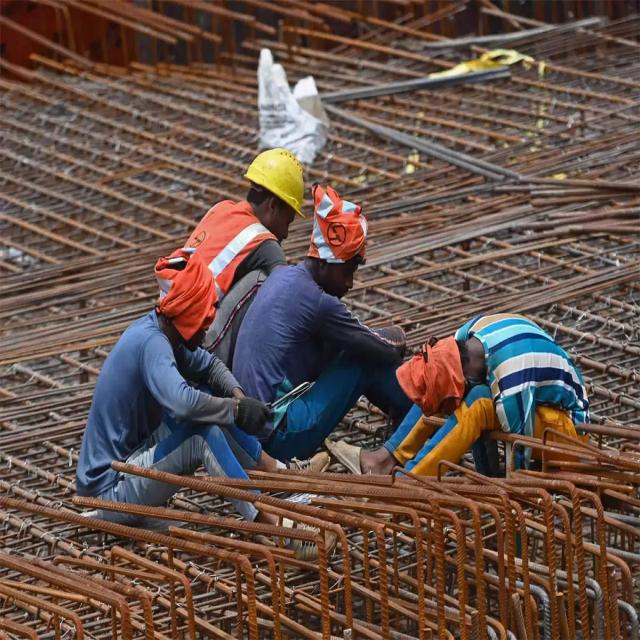Reflective-Jacket: (175, 188, 288, 316)
Safety-Helmet: (242, 145, 308, 218)
